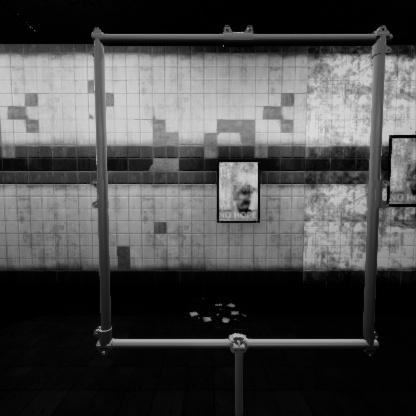gate: (94, 61, 416, 385)
